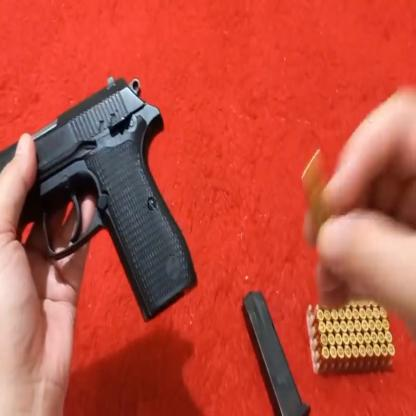handgun: (27, 63, 199, 331)
